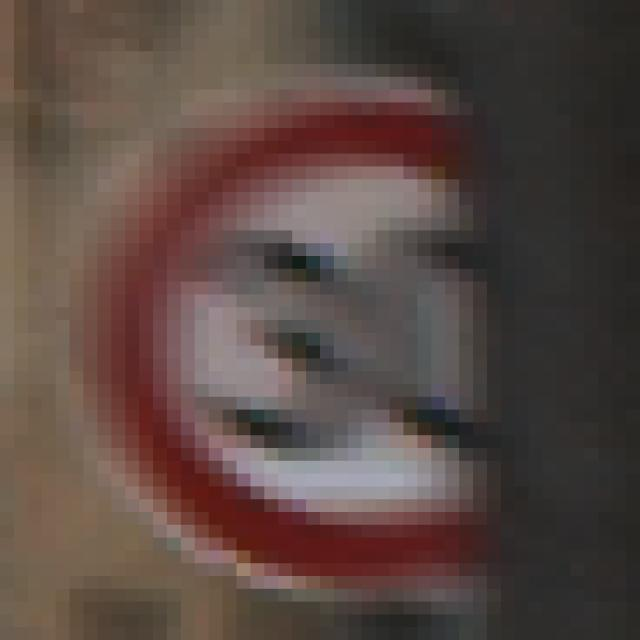Speed Limit -30-: (77, 58, 550, 556)
